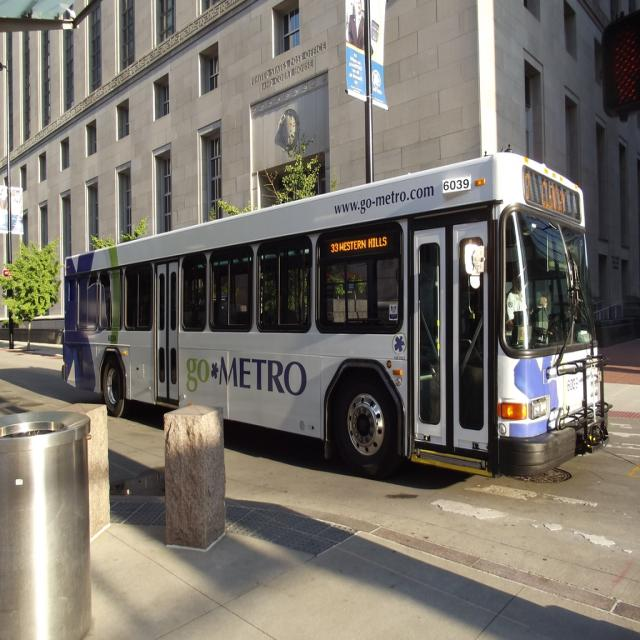Buses: (63, 152, 612, 482)
